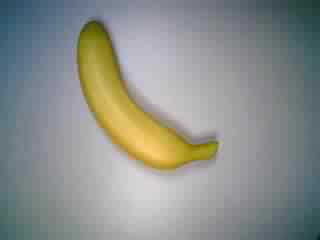banana: (71, 21, 227, 174)
